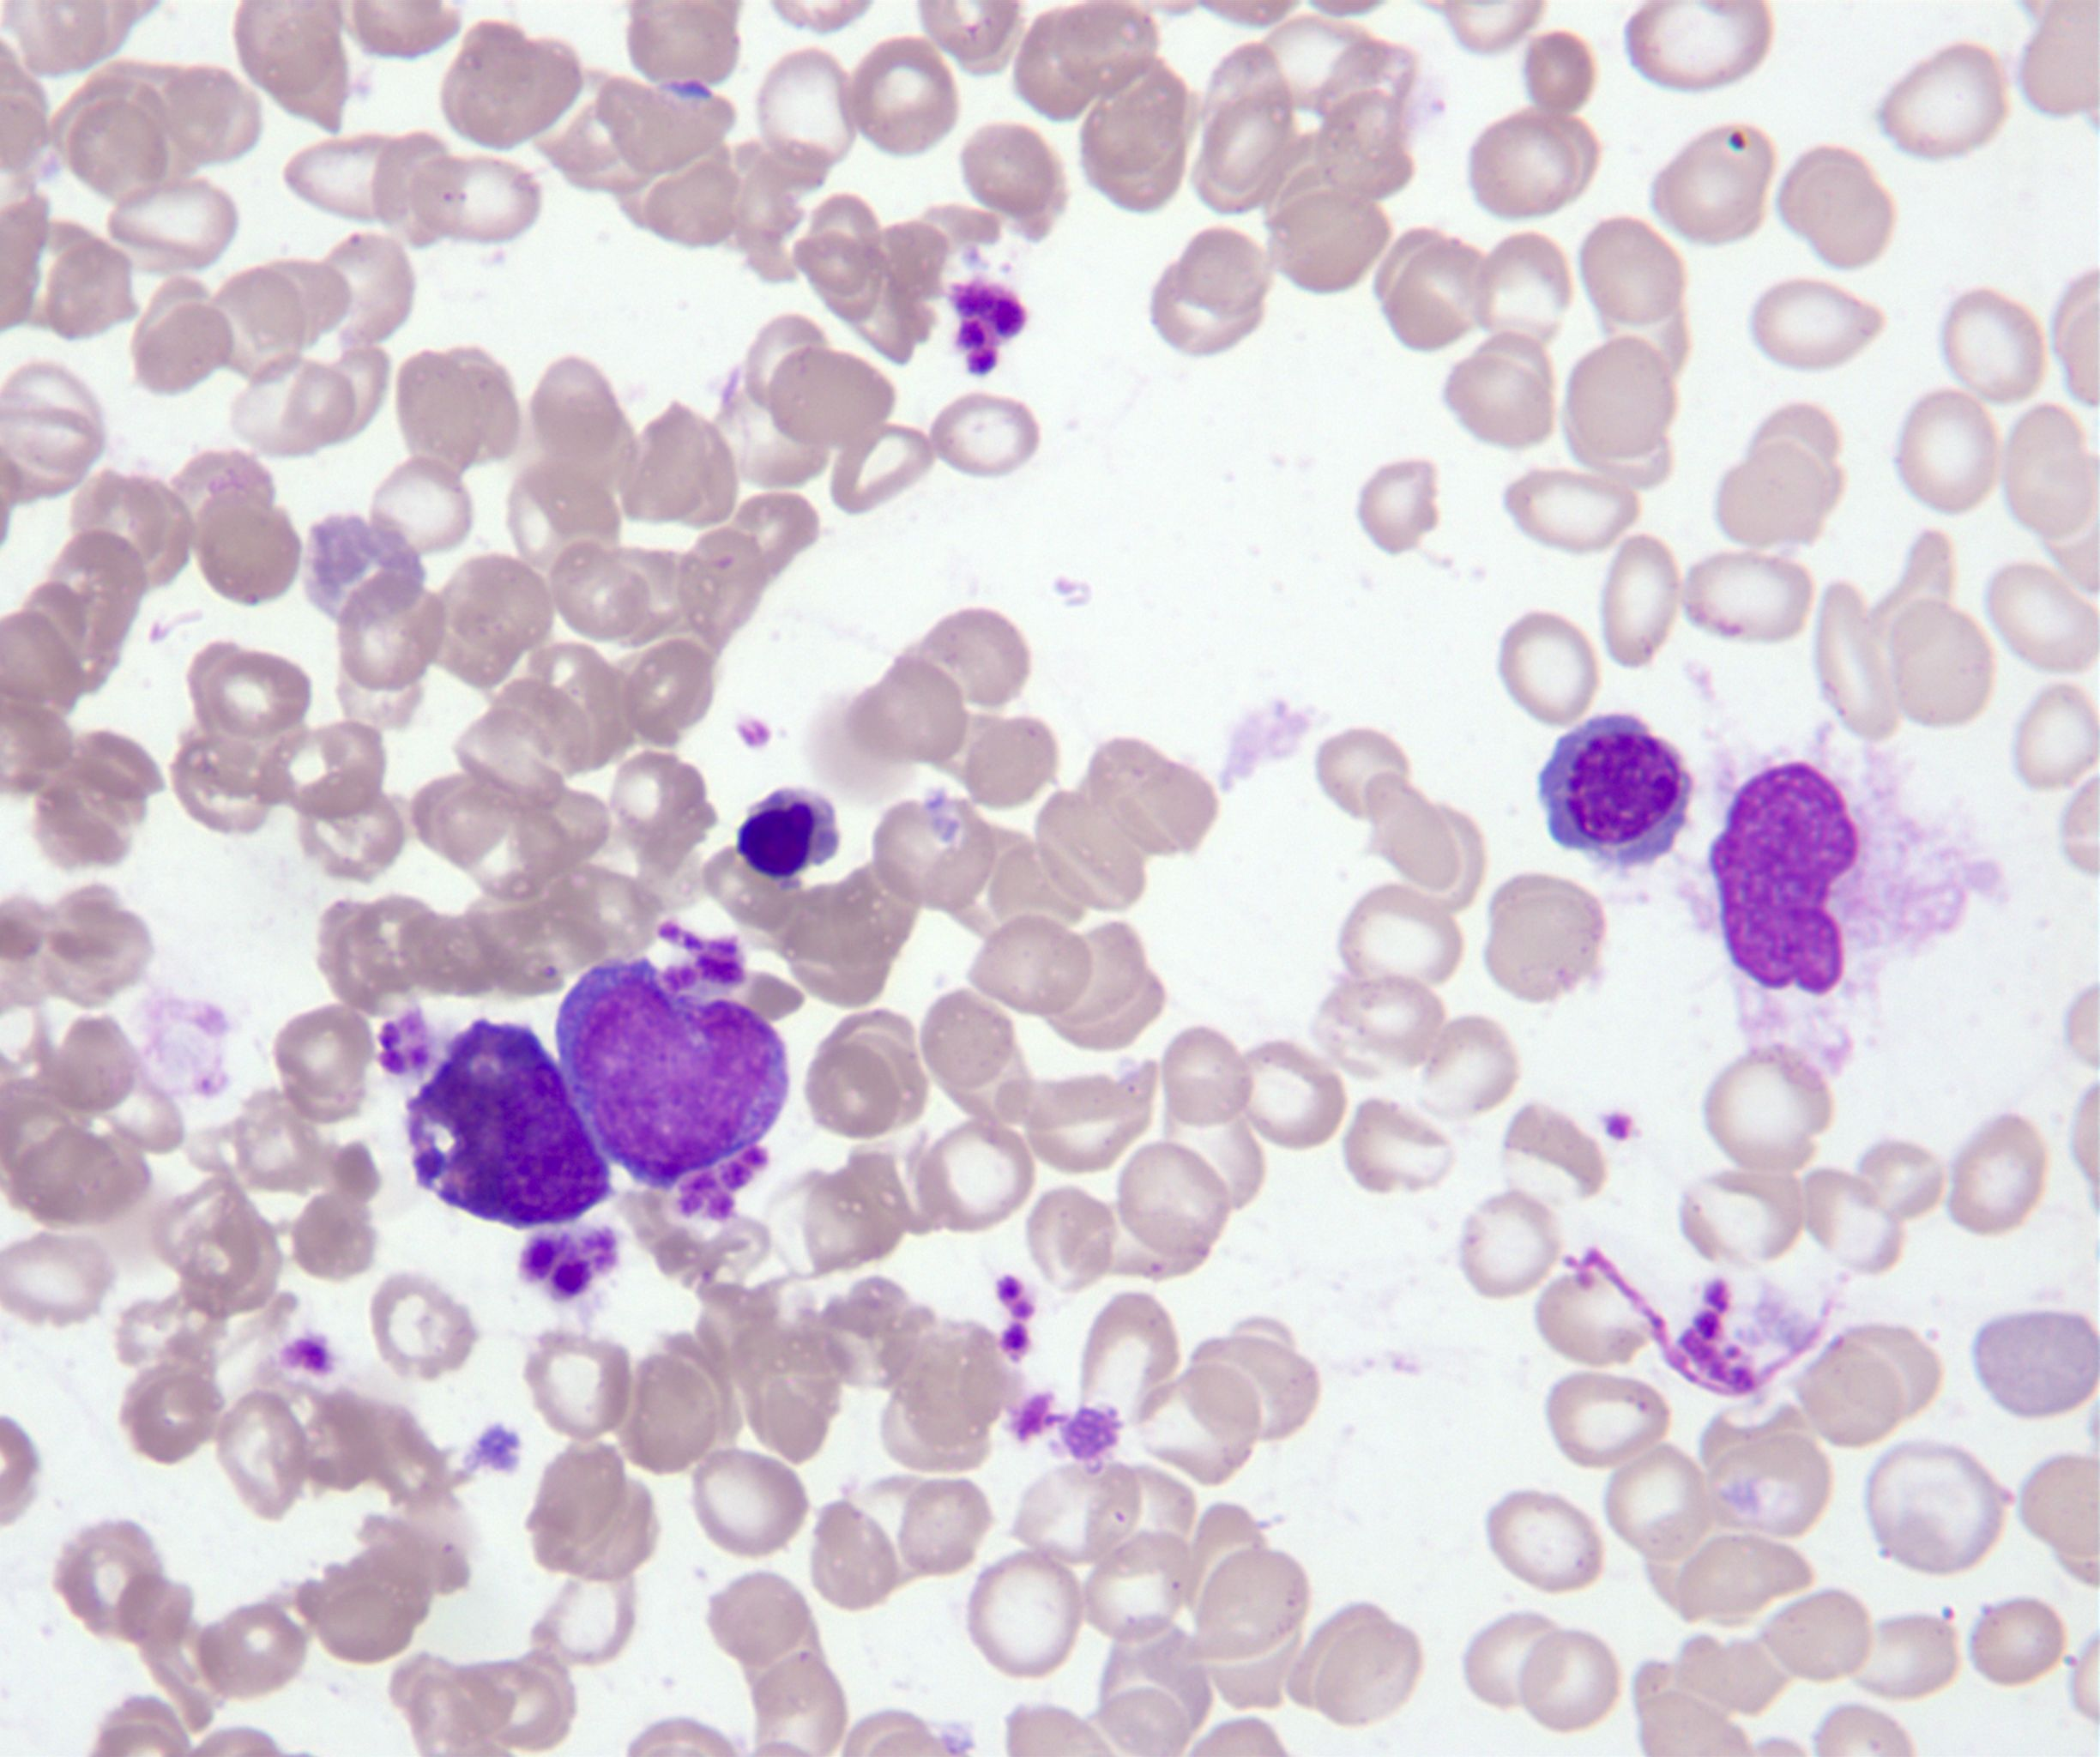2: (556, 958, 788, 1188)
23: (1540, 714, 1690, 865)
24: (736, 787, 841, 878)
E2: (405, 1017, 610, 1228)
x: (1709, 742, 2001, 1087)
